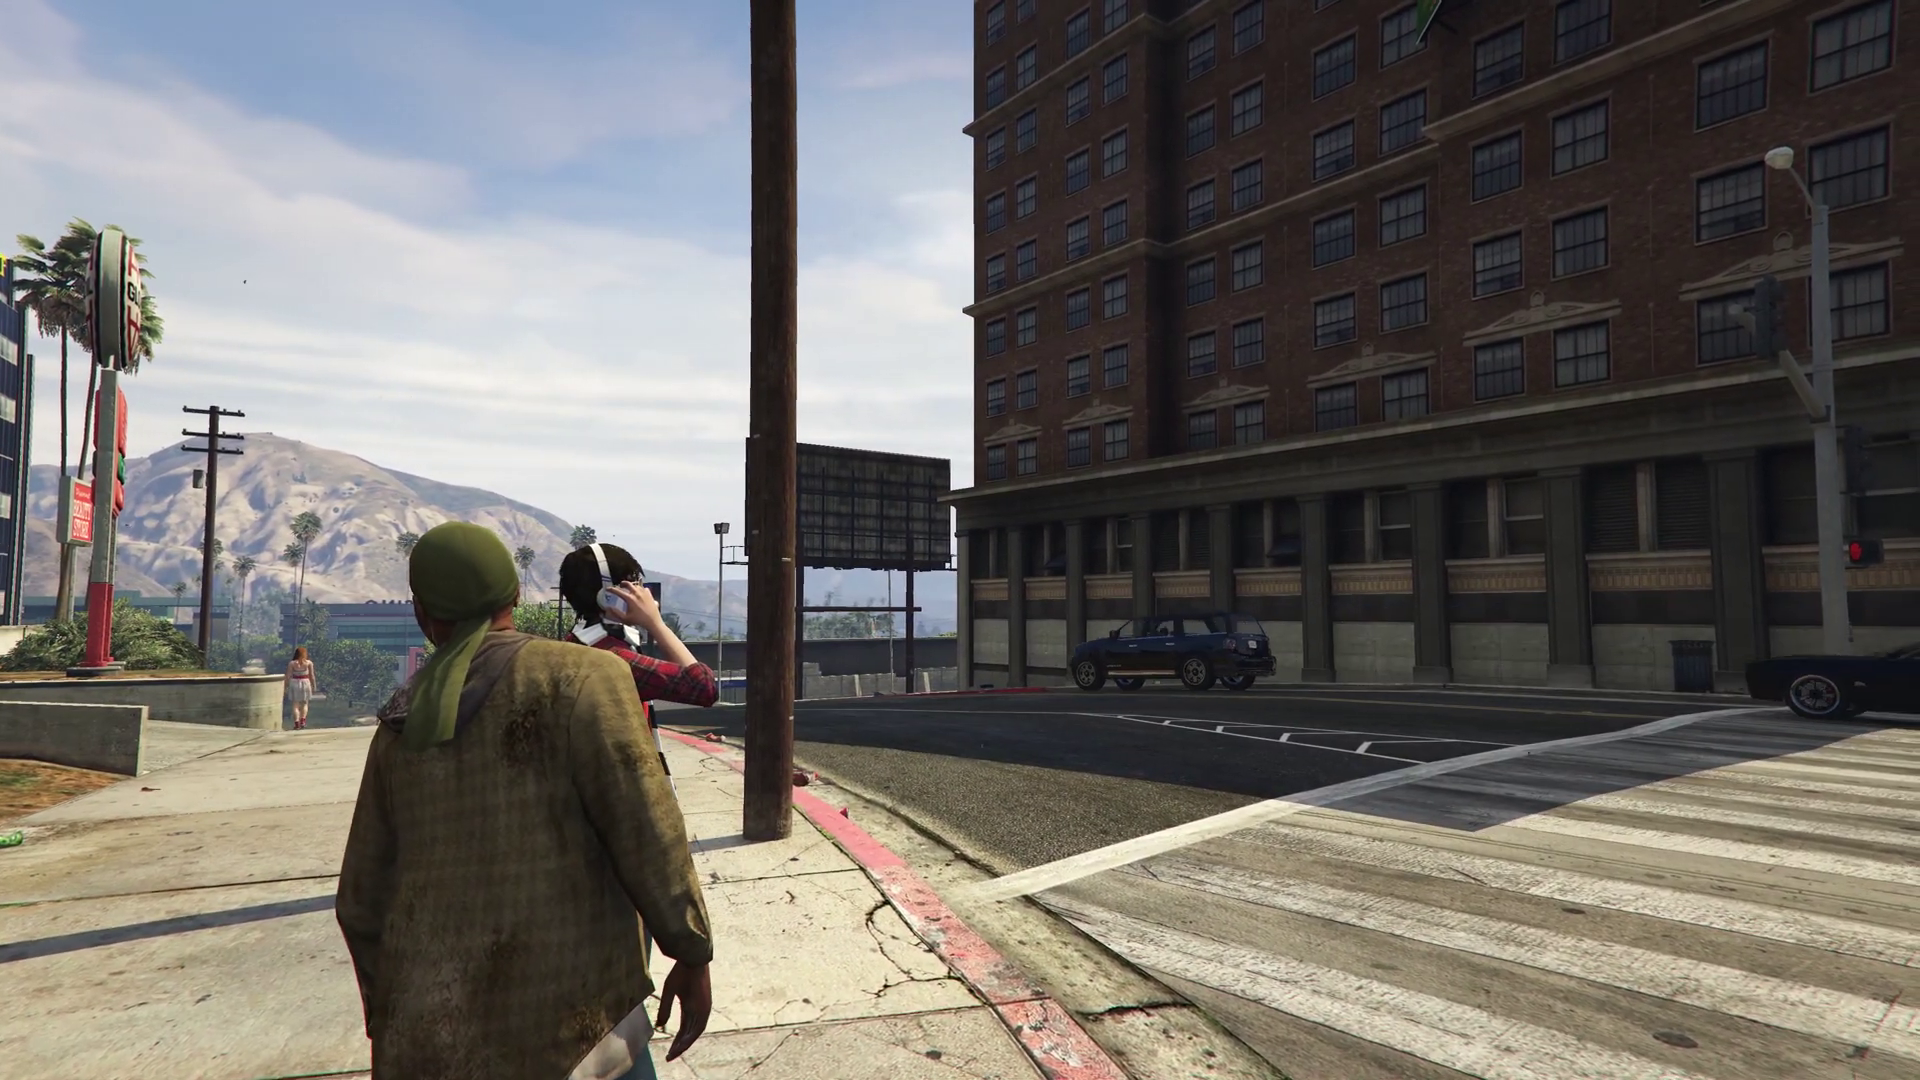car: (1065, 612, 1278, 688), (1750, 641, 1920, 724)
person: (340, 521, 718, 1080), (559, 546, 717, 751), (286, 644, 319, 730)
traffic light: (1753, 280, 1785, 355), (1846, 537, 1883, 565)
